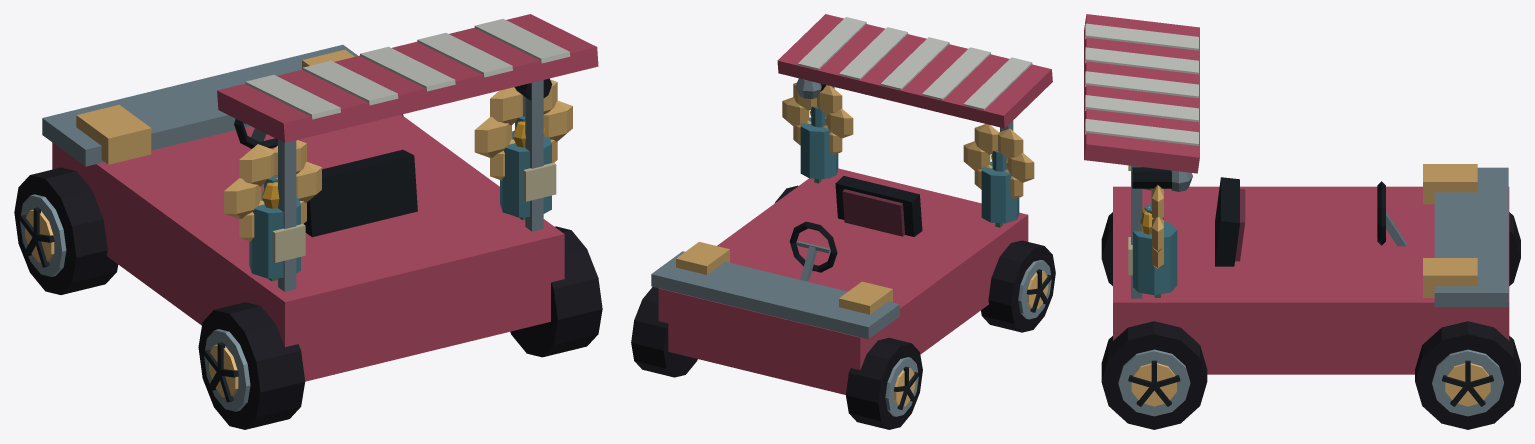
The model's file is kart.glb.
3 renders of one model, left to right at view 1: azimuth 30°, elevation 25°; view 2: azimuth 150°, elevation 25°; view 3: azimuth 270°, elevation 25°, orthographic. The views are drawn at different scales.
Parts seen in each view (by area): view 1: identity-food-cart-food-cart-counter-and-awning, wheel-rear-left, wheel-front-left, identity-food-cart-motif-flowers, identity-food-cart-driver-cockpit, identity-food-cart-motif-bottles, wheel-rear-right; view 2: identity-food-cart-food-cart-counter-and-awning, wheel-front-left, identity-food-cart-motif-flowers, identity-food-cart-driver-cockpit, wheel-rear-left, identity-food-cart-motif-bottles, wheel-front-right, identity-food-cart-motif-microphone; view 3: identity-food-cart-food-cart-counter-and-awning, wheel-rear-right, wheel-front-right, identity-food-cart-driver-cockpit, identity-food-cart-motif-bottles, identity-food-cart-motif-flowers, identity-food-cart-motif-microphone, wheel-front-left, wheel-rear-left.
Boxes of the visible parts, left/top/right/bottom form: identity-food-cart-food-cart-counter-and-awning: left=42, top=14, right=598, bottom=381; wheel-rear-left: left=198, top=302, right=305, bottom=429; wheel-front-left: left=14, top=167, right=118, bottom=294; identity-food-cart-motif-flowers: left=224, top=79, right=572, bottom=281; identity-food-cart-driver-cockpit: left=234, top=119, right=417, bottom=237; identity-food-cart-motif-bottles: left=249, top=116, right=556, bottom=278; wheel-rear-right: left=510, top=226, right=602, bottom=357; identity-food-cart-food-cart-counter-and-awning: left=651, top=14, right=1052, bottom=394; wheel-front-left: left=846, top=338, right=922, bottom=429; identity-food-cart-motif-flowers: left=782, top=82, right=1034, bottom=227; identity-food-cart-driver-cockpit: left=789, top=176, right=922, bottom=281; wheel-rear-left: left=981, top=240, right=1055, bottom=332; identity-food-cart-motif-bottles: left=800, top=106, right=1020, bottom=223; wheel-front-right: left=631, top=287, right=697, bottom=377; identity-food-cart-motif-microphone: left=796, top=78, right=825, bottom=99; identity-food-cart-food-cart-counter-and-awning: left=1084, top=14, right=1509, bottom=374; wheel-rear-right: left=1101, top=321, right=1207, bottom=429; wheel-front-right: left=1415, top=321, right=1520, bottom=429; identity-food-cart-driver-cockpit: left=1215, top=177, right=1406, bottom=266; identity-food-cart-motif-bottles: left=1128, top=165, right=1177, bottom=295; identity-food-cart-motif-flowers: left=1140, top=185, right=1163, bottom=297; identity-food-cart-motif-microphone: left=1132, top=167, right=1192, bottom=208; wheel-front-left: left=1509, top=212, right=1520, bottom=285; wheel-rear-left: left=1101, top=212, right=1112, bottom=285.
Bounding box in the file's own units: 2.03 × 1.76 × 2.48.
